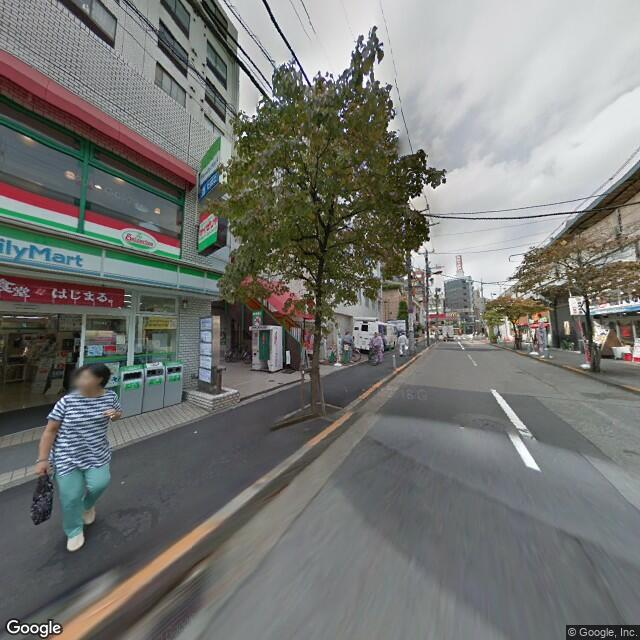family_mart: (1, 220, 225, 298), (196, 134, 225, 185)
